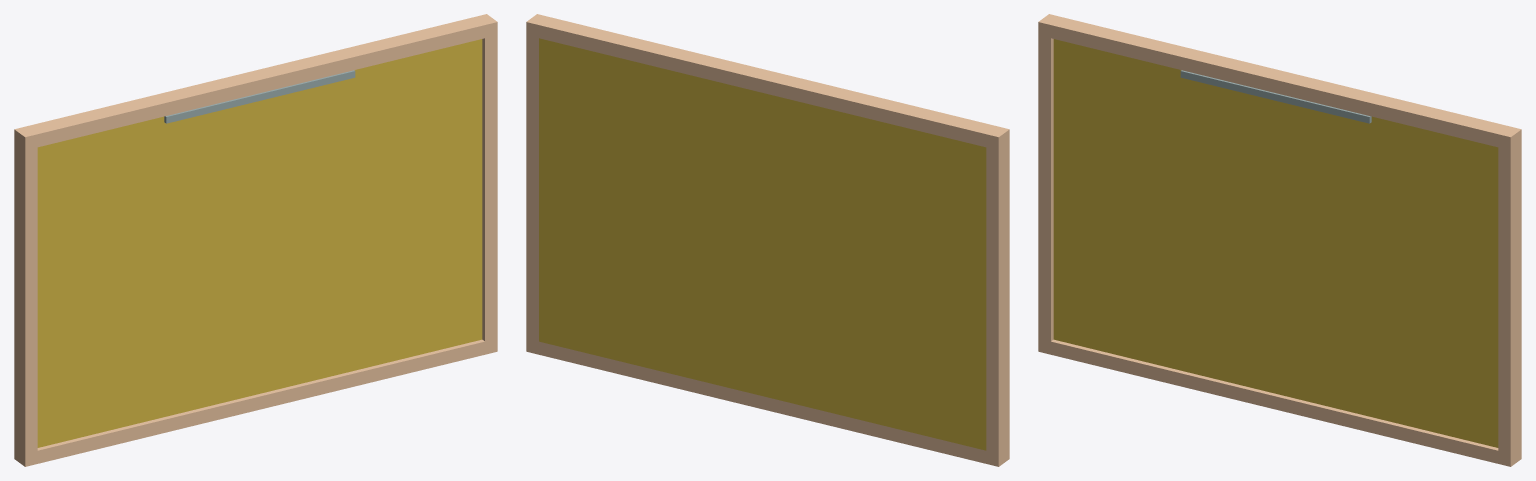
File: objective-board.gltf
3 views of the same model, side by side, from view 1: azimuth 30°, elevation 25°; view 2: azimuth 150°, elevation 25°; view 3: azimuth 330°, elevation 25° (orthographic).
Visible parts, largest first — view 1: objective-board; view 2: objective-board; view 3: objective-board.
Part boxes in pixels (x1=…): objective-board: x1=14, y1=14, x2=497, y2=466; objective-board: x1=526, y1=14, x2=1009, y2=466; objective-board: x1=1038, y1=14, x2=1521, y2=466.
Size of the model in its own units: 1.5 by 1 by 0.06.
